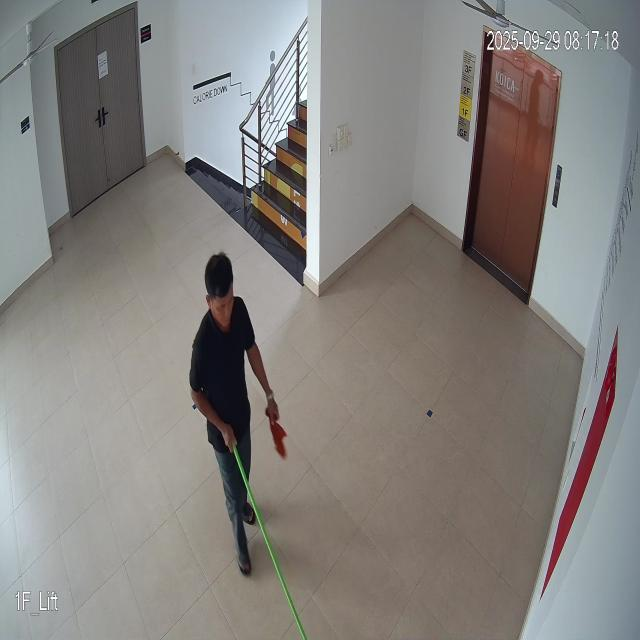face: (198, 249, 240, 337)
